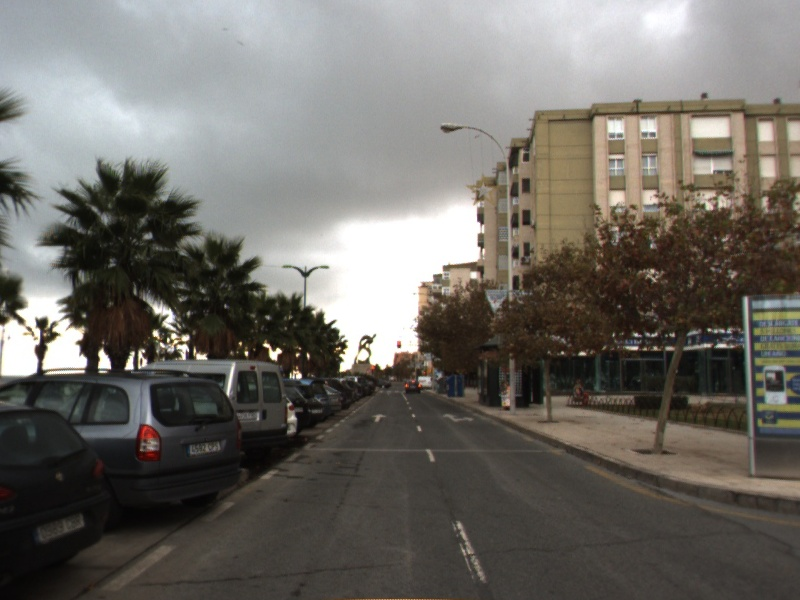STRAIGHT: (370, 412, 389, 424)
STRAIGHT_RIGHT: (441, 411, 476, 424)
